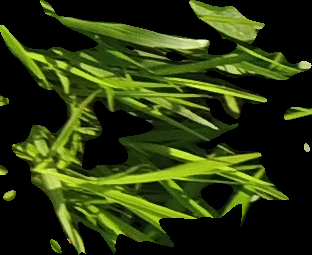grass: (1, 1, 310, 254)
